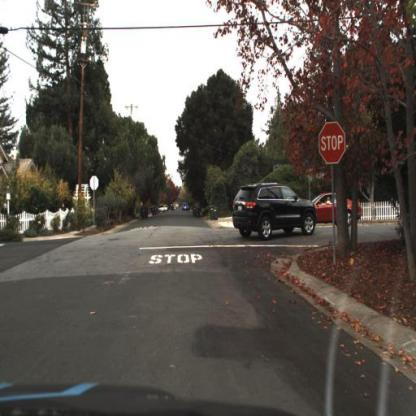car: (231, 182, 319, 242), (302, 190, 365, 230)
